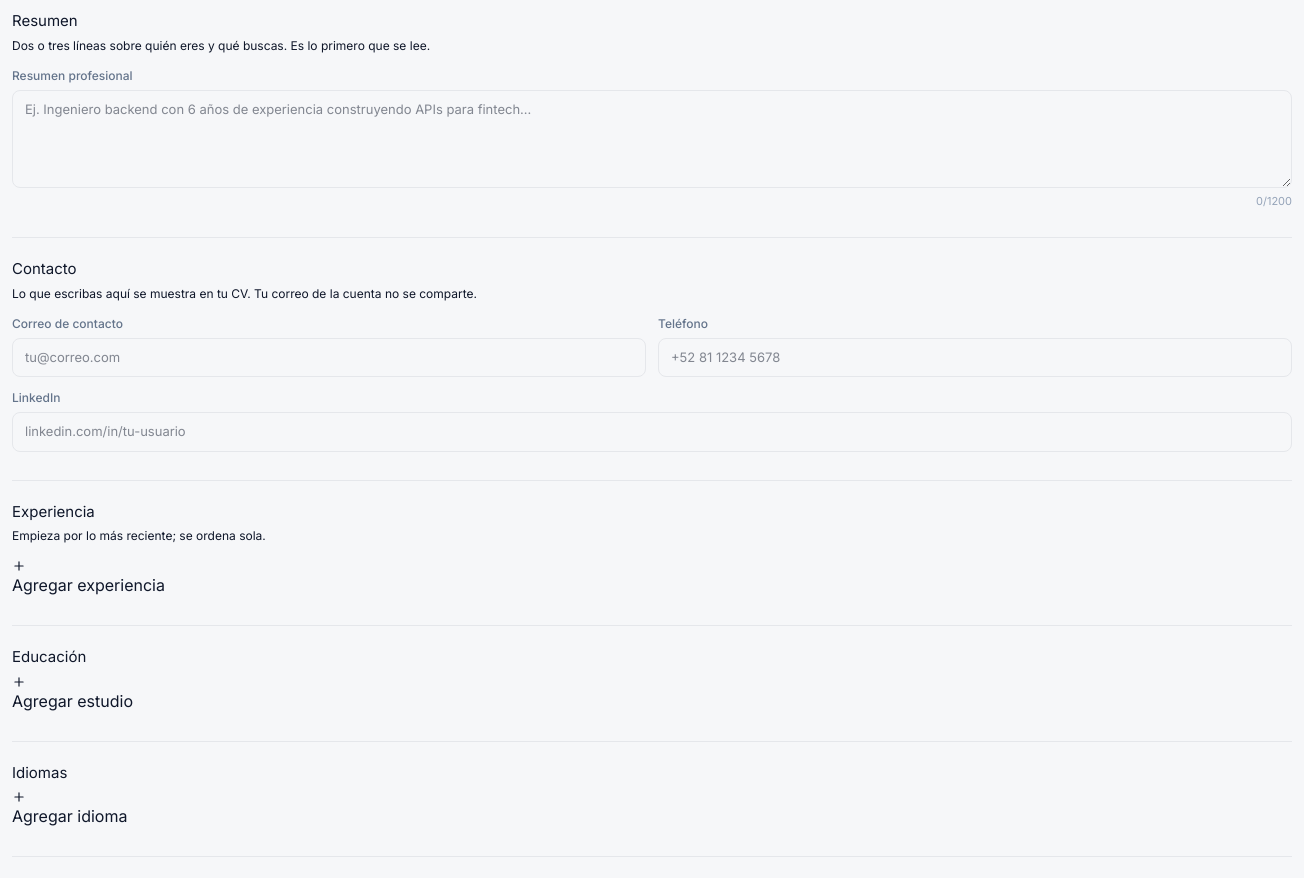
Test case: CvSettings form › notices a change and offers to save it
Replace the text in the text box labelled "Resumen profesional" with "Hola" at (652, 138), box 12,90 -> 1292,188
(page scrolled)
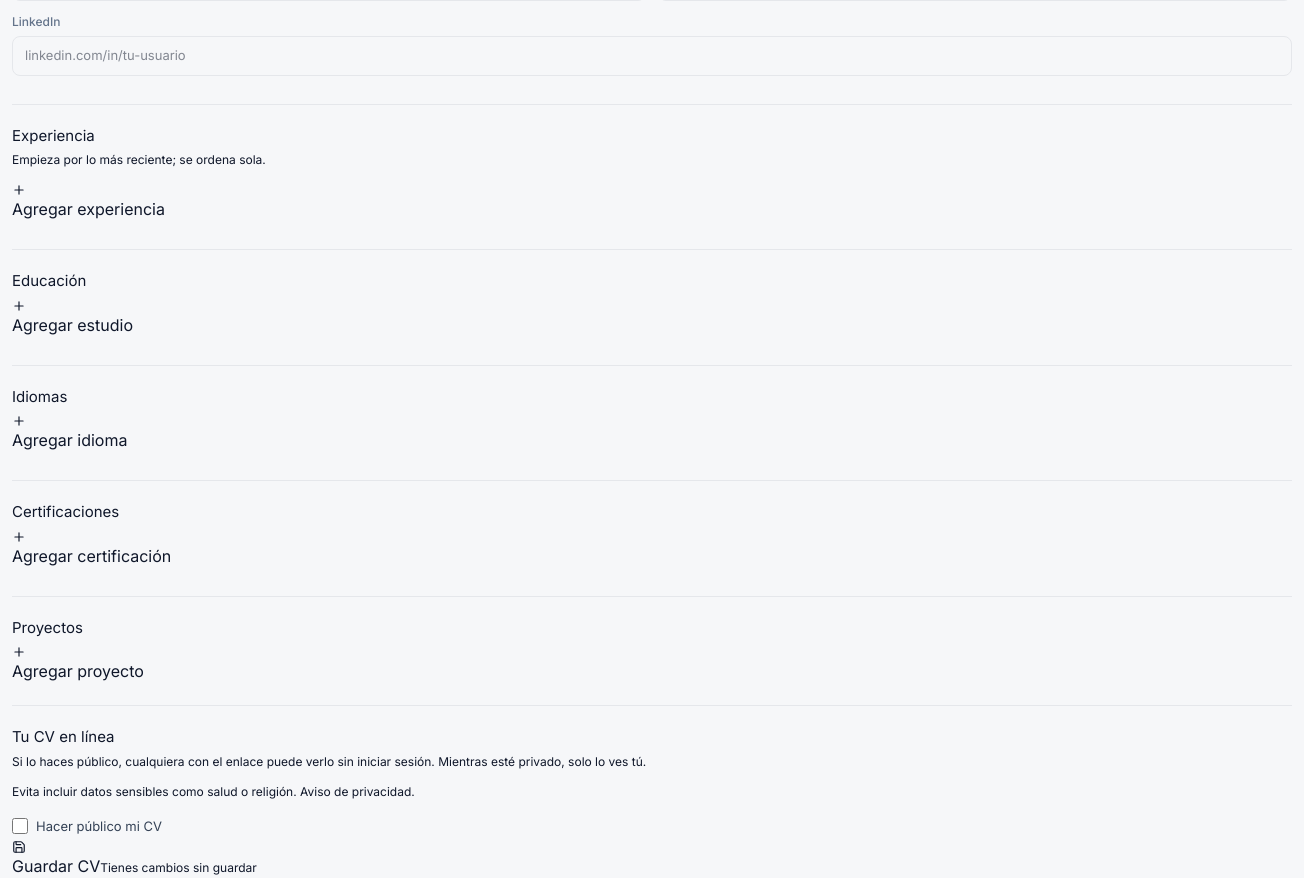
Expected: the button "Guardar CV" is enabled, 12,840 -> 100,877
Expected: the text "Tienes cambios sin guardar" is shown, 100,860 -> 257,875
